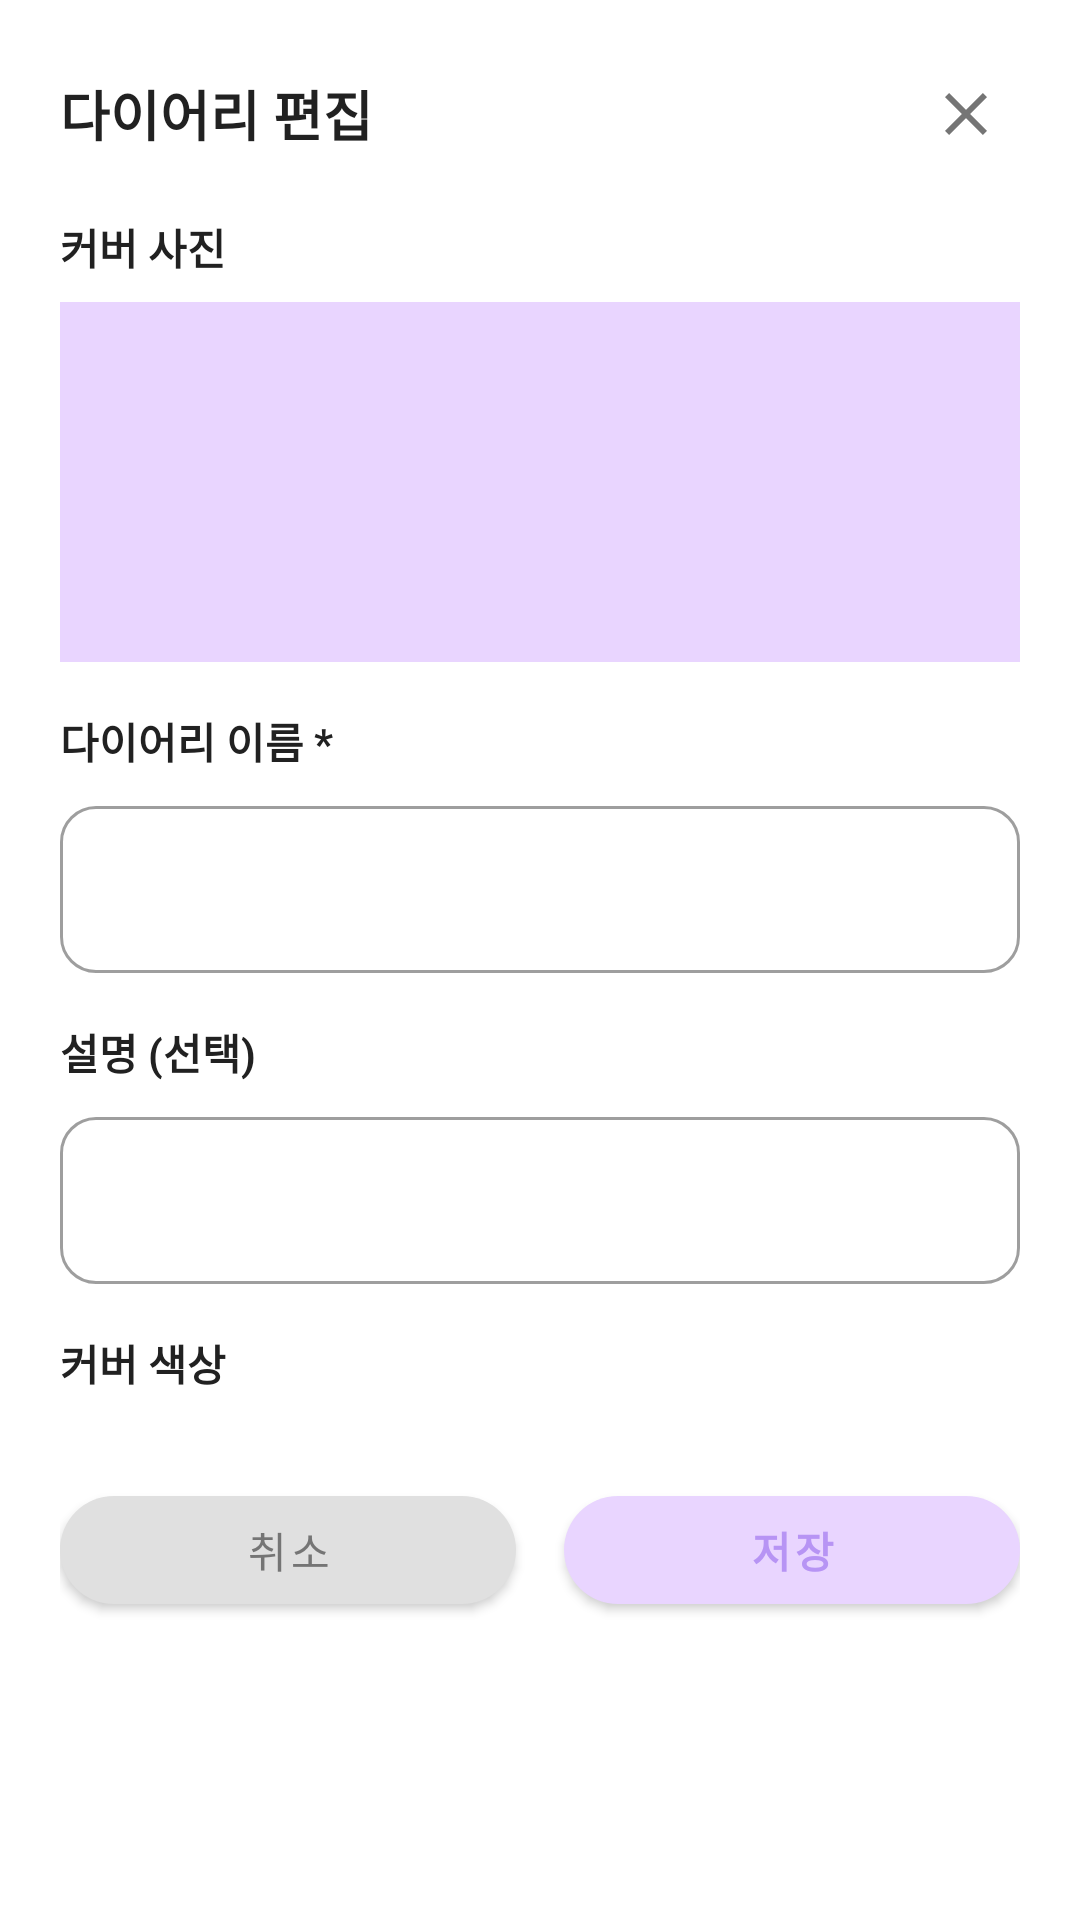

Icon click points for this 1080w x 1920h phone screenshot, format point (x, y):
close: point (966, 114)
